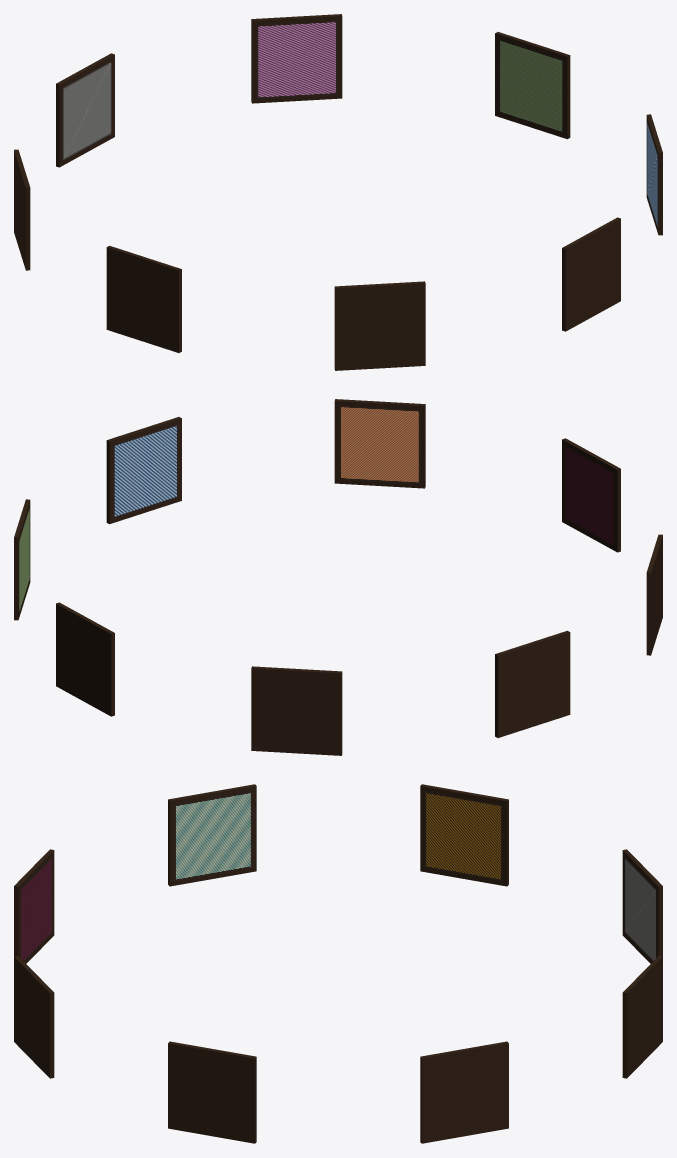
The model's file is gallery.gltf.
The picture shows the model from 3 angles, top to bottom: view 1: azimuth 30°, elevation 25°; view 2: azimuth 150°, elevation 25°; view 3: azimuth 270°, elevation 25°; orthographic projection. The views are drawn at different scales.
Visible parts, largest first — view 1: Panel3, Panel7, Panel2, Panel6, Panel0, Panel4, Panel1, Panel5; view 2: Panel0, Panel4, Panel1, Panel5, Panel3, Panel7, Panel2, Panel6; view 3: Panel1, Panel2, Panel5, Panel6, Panel0, Panel3, Panel4, Panel7.
Part boxes in pixels (x1,y1,x2,y2): Panel3: [251, 14, 342, 103]; Panel7: [334, 281, 425, 370]; Panel2: [495, 32, 570, 139]; Panel6: [106, 245, 181, 352]; Panel0: [562, 217, 620, 331]; Panel4: [56, 53, 114, 167]; Panel1: [646, 114, 662, 235]; Panel5: [14, 149, 30, 270]; Panel0: [334, 399, 425, 488]; Panel4: [251, 666, 342, 755]; Panel1: [106, 417, 181, 524]; Panel5: [495, 630, 570, 737]; Panel3: [56, 602, 114, 716]; Panel7: [562, 438, 620, 552]; Panel2: [14, 499, 30, 620]; Panel6: [646, 534, 662, 655]; Panel1: [168, 1041, 256, 1143]; Panel2: [420, 1041, 508, 1143]; Panel5: [420, 784, 508, 886]; Panel6: [168, 784, 256, 886]; Panel0: [14, 956, 54, 1078]; Panel3: [622, 956, 662, 1078]; Panel4: [622, 849, 662, 963]; Panel7: [14, 849, 54, 963].
Size of the model in its own units: 13.79 by 2 by 13.79.
9 materials, 8 textured.
